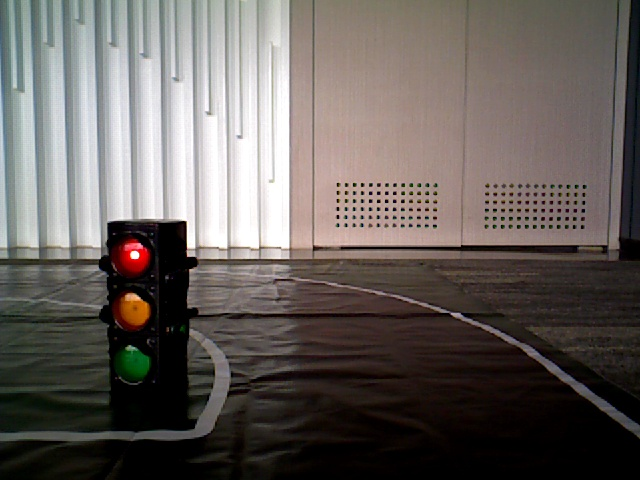red: (108, 225, 167, 385)
